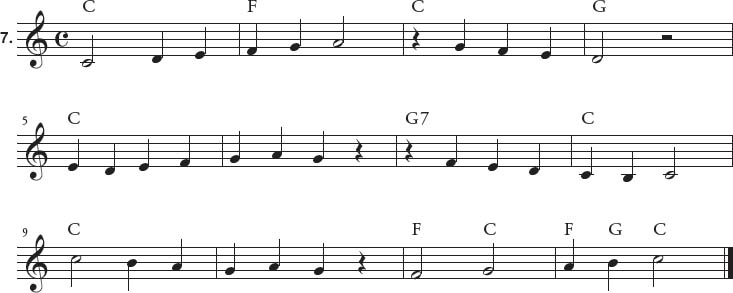half_down: (646, 251, 667, 289), (68, 252, 83, 289)
half_up: (476, 239, 507, 279), (407, 244, 431, 285), (329, 13, 350, 52), (589, 29, 610, 65), (663, 147, 681, 183), (82, 32, 98, 70)
quarter_down: (602, 255, 621, 293), (121, 256, 139, 293)
quarter_up: (481, 136, 506, 172), (310, 239, 334, 275), (287, 18, 309, 51), (495, 23, 517, 56), (270, 125, 290, 161), (267, 236, 287, 272), (175, 134, 196, 168), (561, 239, 582, 273), (228, 128, 247, 165), (527, 141, 547, 176), (579, 145, 599, 180), (620, 149, 640, 184), (221, 241, 241, 276), (194, 25, 212, 63), (137, 138, 157, 172), (441, 136, 462, 168), (170, 237, 188, 273), (245, 23, 263, 57), (453, 17, 470, 53), (313, 129, 330, 165), (541, 24, 557, 62), (152, 31, 169, 65), (67, 138, 83, 174), (104, 143, 120, 178)
rest: (651, 30, 683, 43)
rest_quarter: (351, 248, 374, 275), (349, 135, 368, 165), (400, 137, 421, 164), (408, 25, 426, 53)
